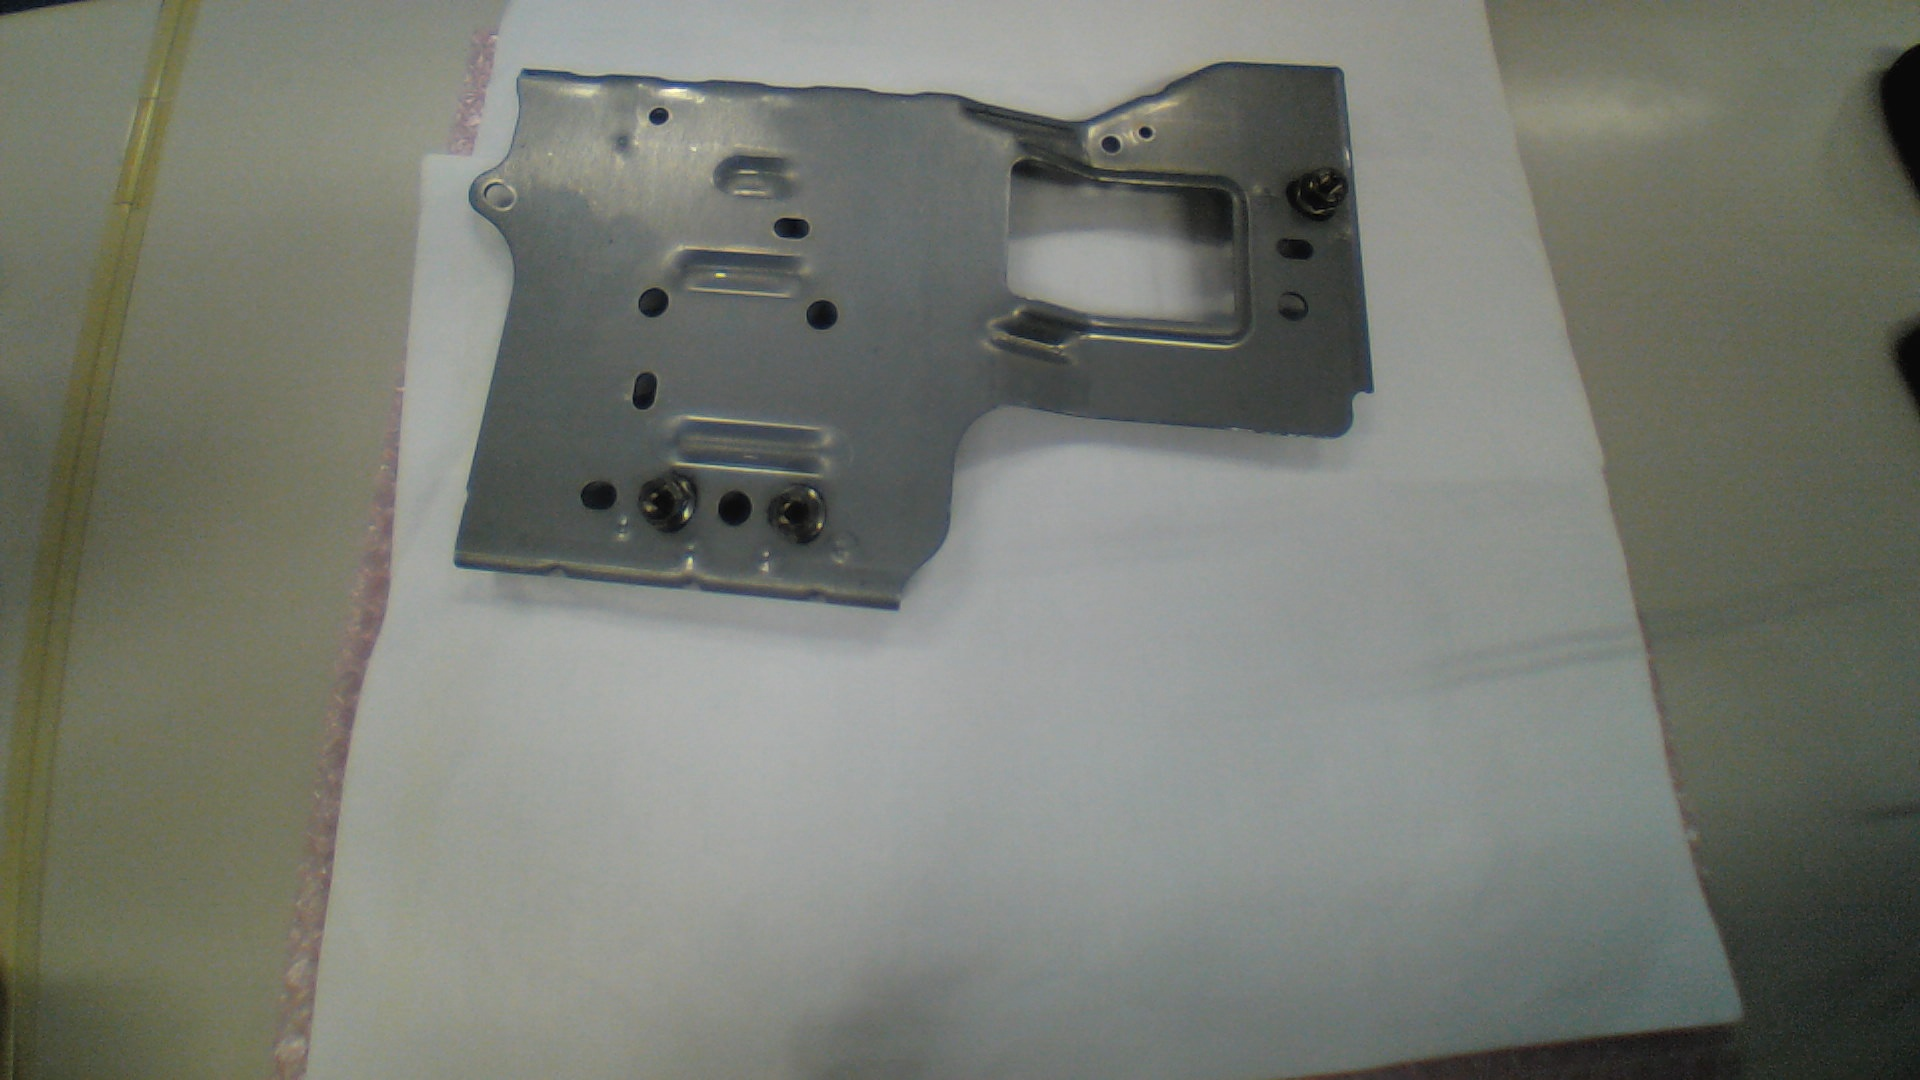dog: (766, 483, 825, 546), (640, 471, 698, 534), (1284, 166, 1348, 222)
